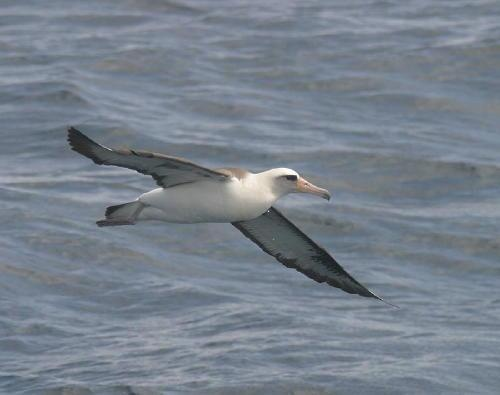bird: (65, 124, 402, 310)
